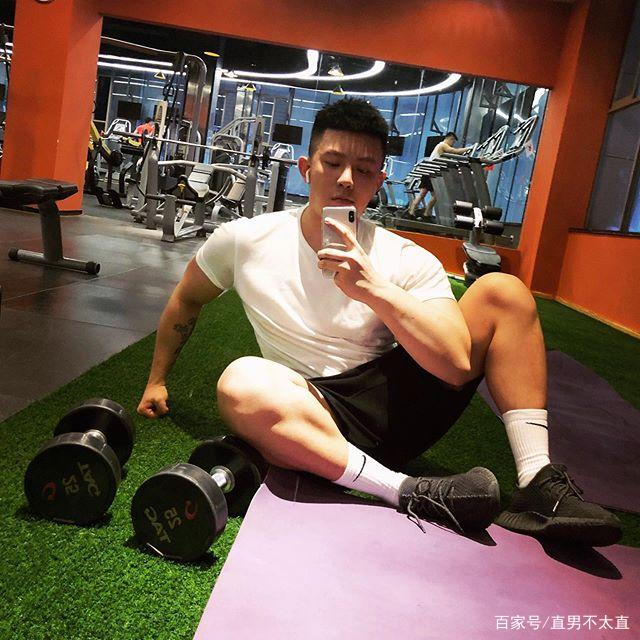person: (181, 90, 536, 551)
